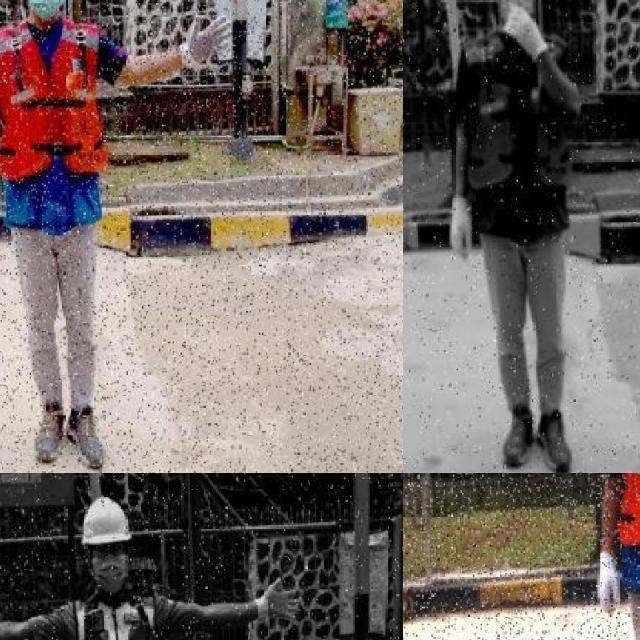apron: (179, 13, 233, 70), (501, 4, 549, 63), (252, 580, 304, 628), (594, 549, 622, 618), (448, 194, 474, 263)
